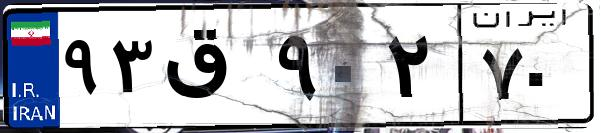0: (330, 28, 385, 110), (525, 38, 570, 115)
2: (385, 28, 445, 110)
3: (110, 28, 158, 98)
7: (475, 38, 525, 113)
9: (270, 28, 330, 110), (57, 26, 110, 100)
ق: (158, 20, 270, 120)
